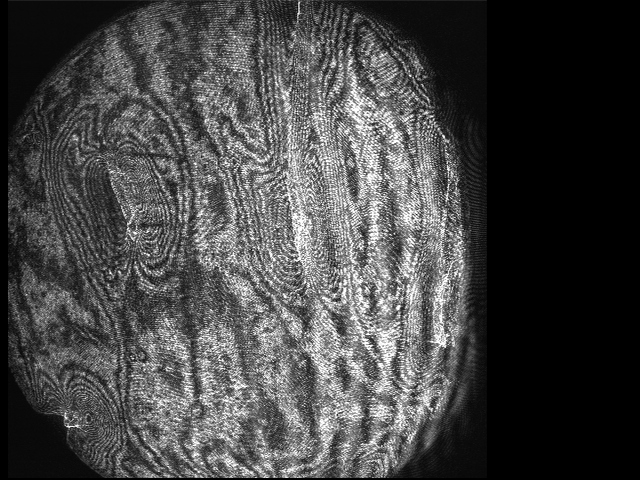plume: (74, 139, 175, 258)
